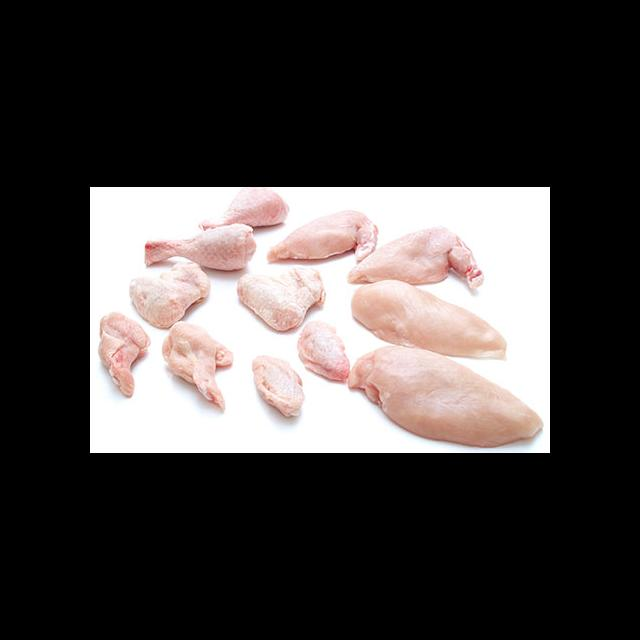chicken: (346, 344, 543, 445), (351, 278, 508, 359), (347, 225, 485, 286), (161, 320, 233, 414), (266, 209, 378, 263), (236, 266, 326, 333), (128, 258, 210, 329), (144, 222, 257, 272), (98, 311, 151, 399), (198, 187, 288, 229), (296, 319, 351, 383), (252, 353, 306, 416)
